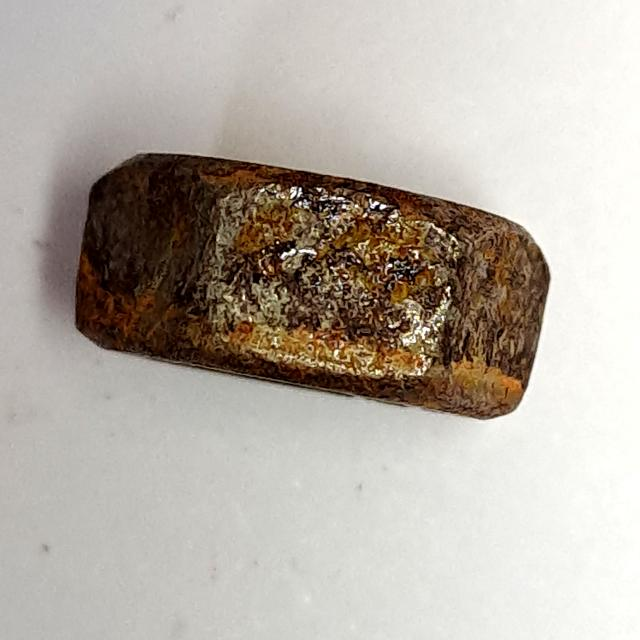Side_Rust: (66, 136, 561, 438)
